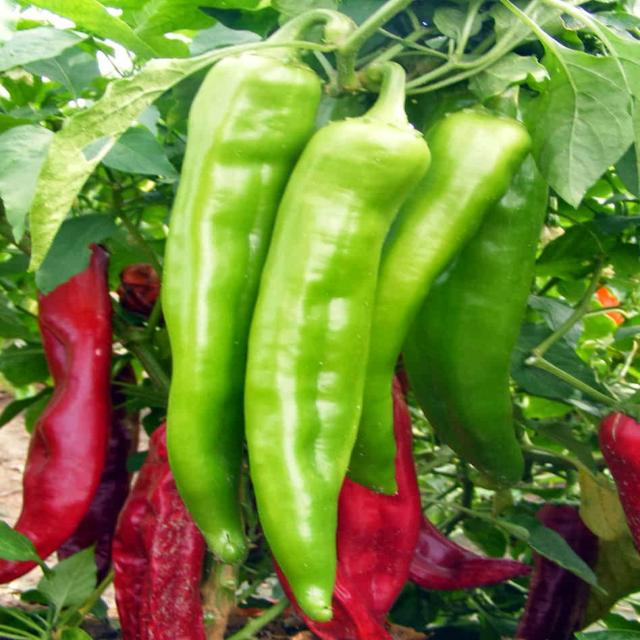Chilli Pepper: (146, 18, 347, 587), (400, 9, 608, 526), (248, 43, 390, 622), (15, 220, 140, 600), (110, 406, 231, 640)
